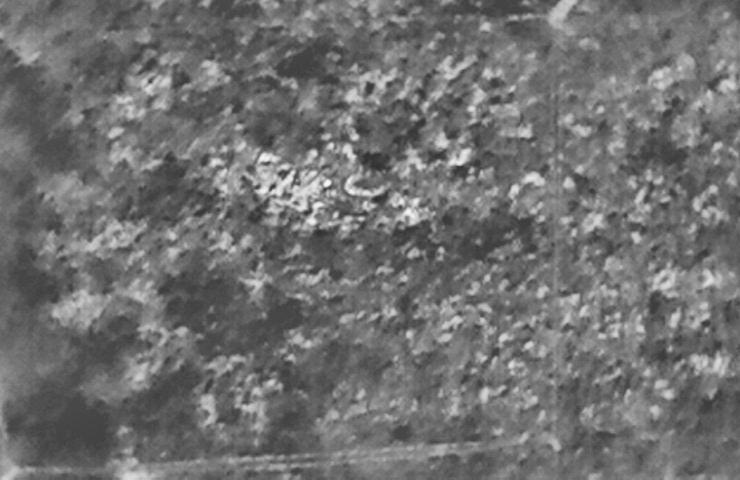landmines: (256, 150, 332, 216)
